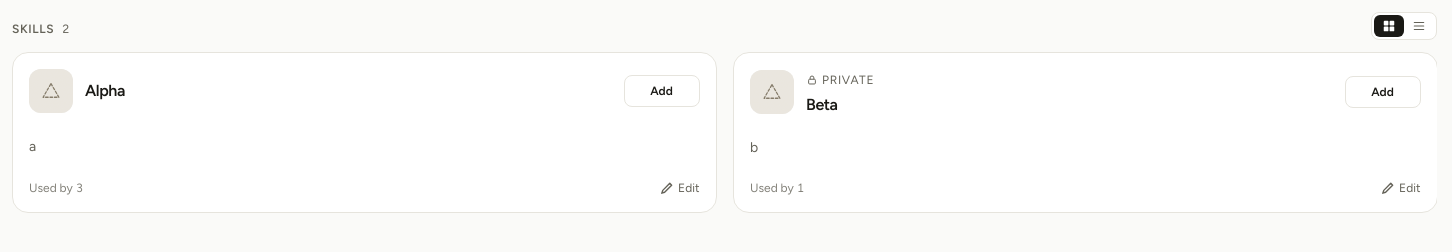
it: ProfileSkillsManager: view + selection › owner list view: checkboxes, select-all/clear, count
Click the button named "list": (1419,26) left=1404, top=15, right=1434, bottom=37
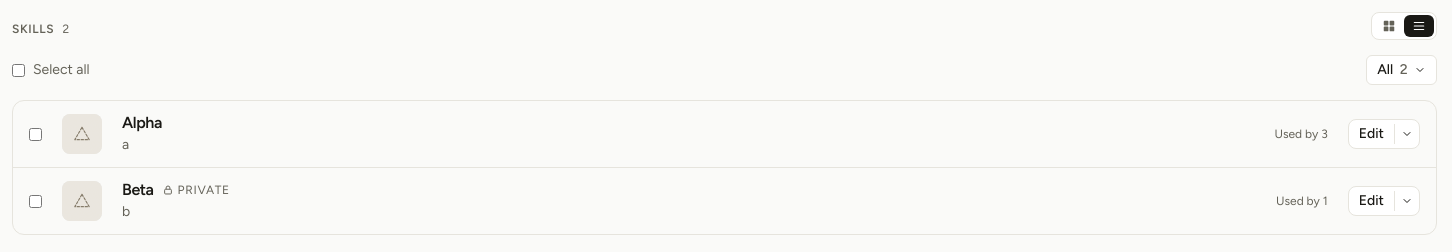
Click the checkbox named "Select all skills": (18,70) left=12, top=64, right=25, bottom=76
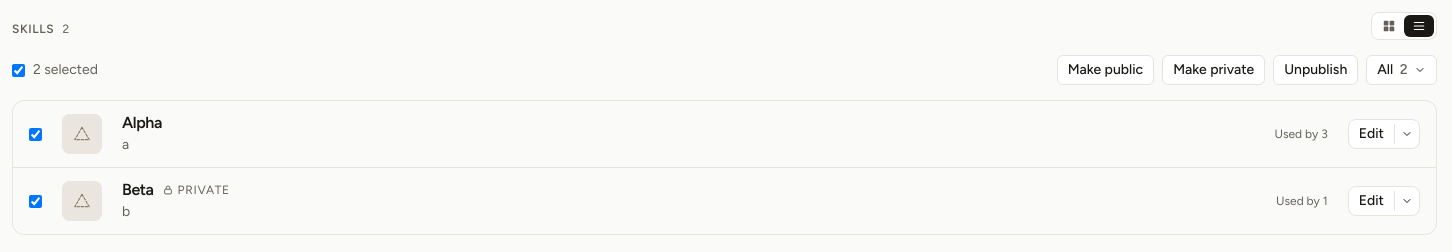
Now the text "2 selected" is shown, box left=33, top=60, right=98, bottom=80
Click the checkbox named "Select all skills": (18,70) left=12, top=64, right=25, bottom=76
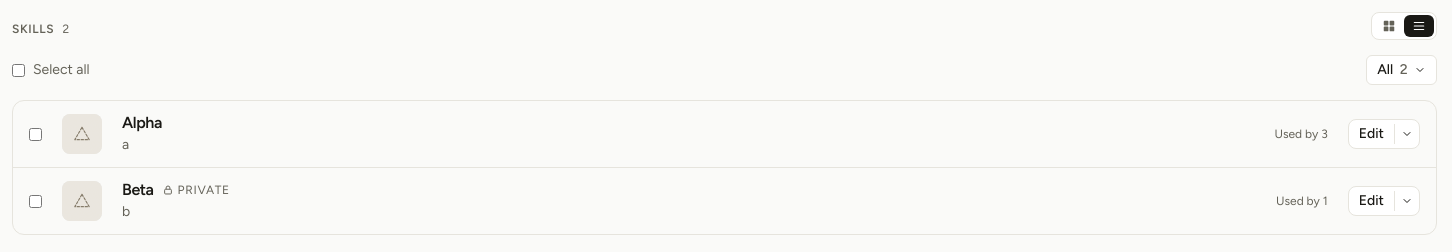
Now the text "Select all" is shown, box left=33, top=60, right=90, bottom=80
